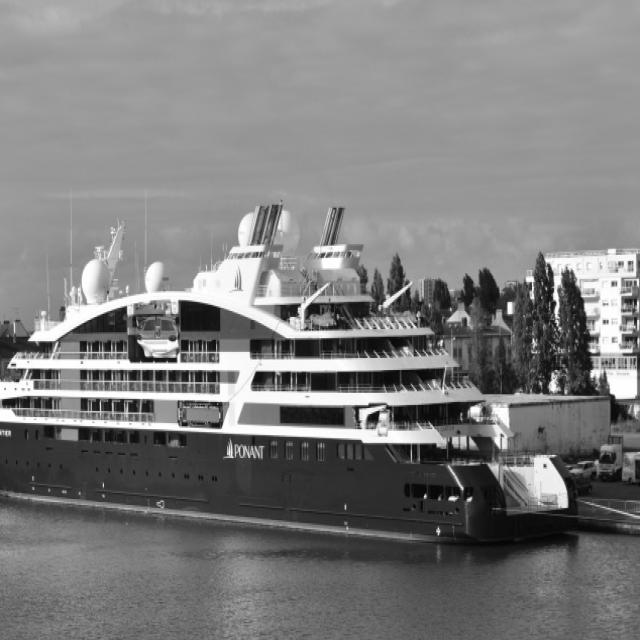cruises: (1, 193, 579, 560)
